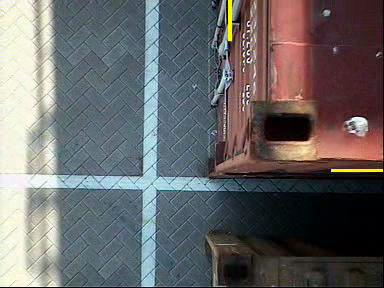groundmarker_2: (73, 1, 240, 111)
